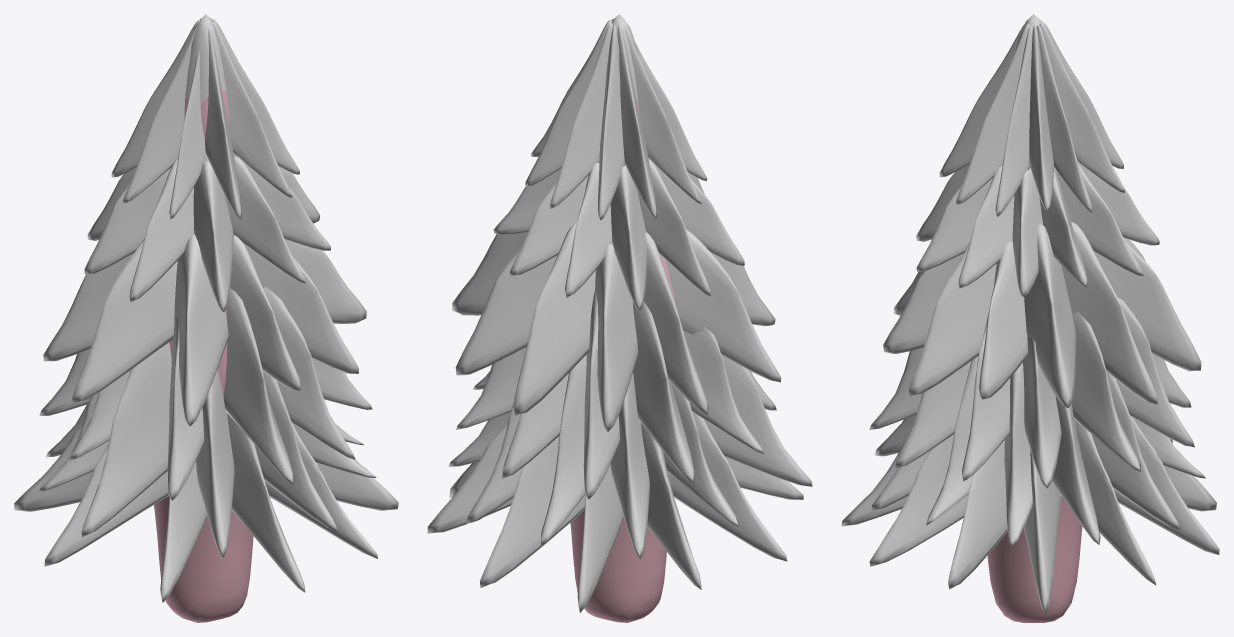
Rendered from Tree_fir.fbx.
The picture shows the model from 3 angles, left to right: view 1: azimuth 30°, elevation 25°; view 2: azimuth 150°, elevation 25°; view 3: azimuth 270°, elevation 25°; orthographic projection.
Visible parts, largest first — view 1: Tree_firL, Tree_fir; view 2: Tree_firL, Tree_fir; view 3: Tree_firL, Tree_fir.
Boxes of the visible parts, x1,y1,x2,y2 form: Tree_firL: (14,18,398,602); Tree_fir: (153,14,253,622); Tree_firL: (427,19,812,612); Tree_fir: (570,14,675,622); Tree_firL: (841,20,1219,613); Tree_fir: (987,14,1082,622).
Bounding box in the file's own units: 2572 × 4478 × 2555.
